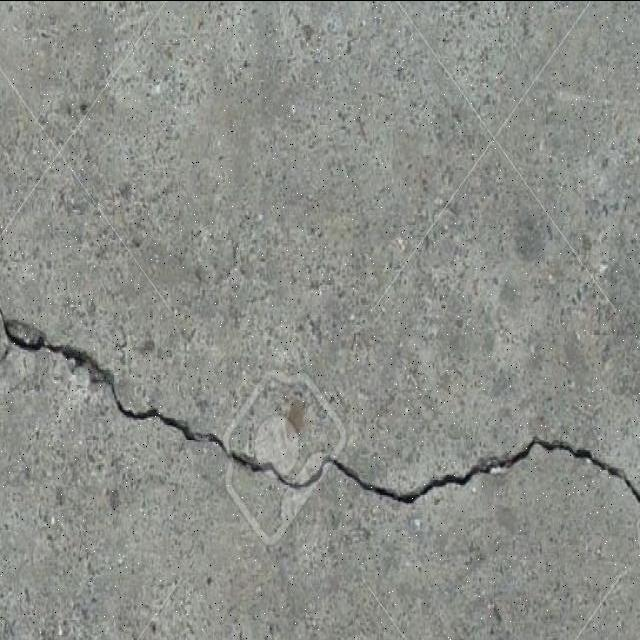Crack: (1, 308, 638, 545)
